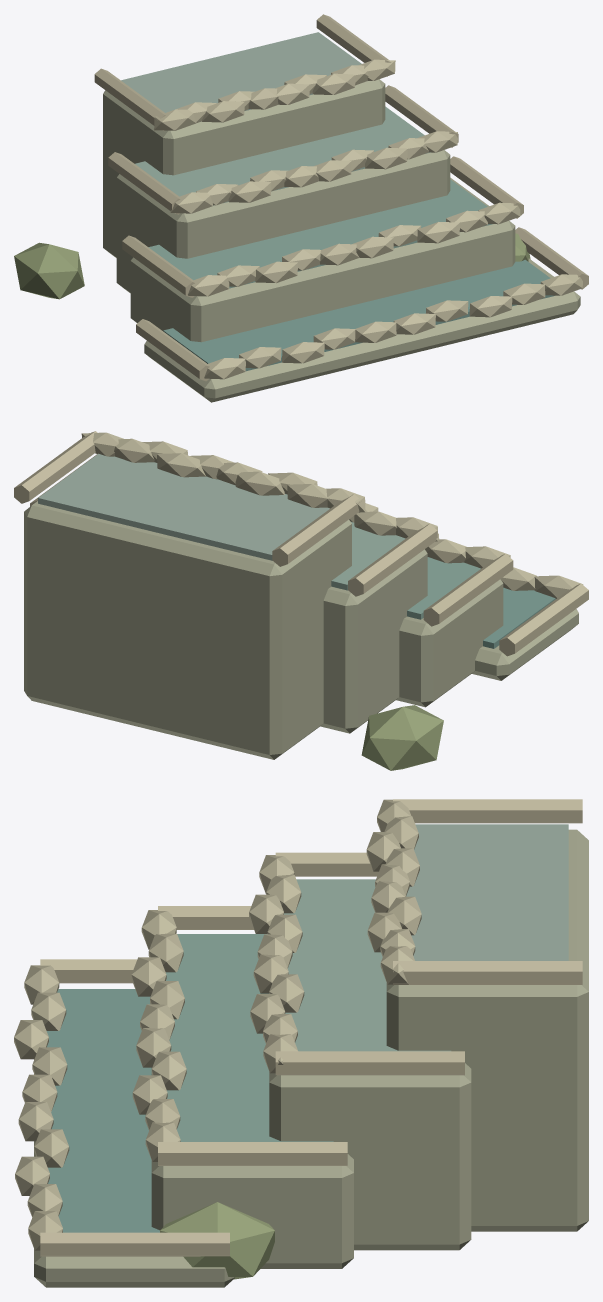
Rendered from nature-travertine.glb.
3 renders of one model, top to bottom at view 1: azimuth 30°, elevation 25°; view 2: azimuth 150°, elevation 25°; view 3: azimuth 270°, elevation 25°, orthographic. The views are drawn at different scales.
Parts seen in each view (by area): view 1: SculptedModel; view 2: SculptedModel; view 3: SculptedModel.
Part boxes in pixels (box(x1,y1,x2,y2)): SculptedModel: box(14, 14, 588, 402); SculptedModel: box(14, 431, 588, 770); SculptedModel: box(14, 799, 588, 1287).
Size of the model in its own units: 2.37 by 1.06 by 1.92.
